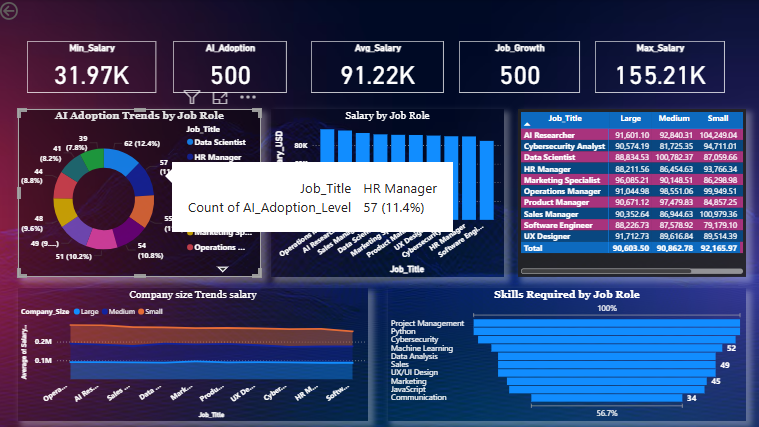

Layout of this report page (visuals, bound fields, positions):
{"tool":"powerbi","page":{"name":"Page 1","canvas":[1280,720],"ordinal":0},"visuals":[{"type":"card","title":"AI_Adoption","fields":{"Values":["CountNonNull(sales ai_job_market_insights.AI_Adoption_Level)"]},"box":[295.6,70.6,191.5,87.3],"z":0},{"type":"card","title":"Job_Growth","fields":{"Values":["CountNonNull(sales ai_job_market_insights.Job_Growth_Projection)"]},"box":[776.1,70.6,203.3,87.3],"z":1000},{"type":"card","title":"Avg_Salary","fields":{"Values":["Avg(sales ai_job_market_insights.Salary_USD)"]},"box":[527.5,70.6,223.4,87.3],"z":2000},{"type":"donutChart","title":"AI Adoption Trends by Job Role","fields":{"Category":["sales ai_job_market_insights.Job_Title"],"Y":["CountNonNull(sales ai_job_market_insights.AI_Adoption_Level)"]},"box":[35.3,184.8,408.2,282.2],"z":3000},{"type":"columnChart","title":"Salary by Job Role","fields":{"Category":["sales ai_job_market_insights.Job_Title"],"Y":["Avg(sales ai_job_market_insights.Salary_USD)"]},"box":[460.3,184.8,391.4,282.2],"z":4000},{"type":"actionButton","box":[0,0,100,40],"z":5000},{"type":"pivotTable","fields":{"Rows":["sales ai_job_market_insights.Job_Title"],"Columns":["sales ai_job_market_insights.Company_Size"],"Values":["Avg(sales ai_job_market_insights.Salary_USD)"]},"box":[875.2,184.8,383,282.2],"z":6000},{"type":"funnel","title":"Skills Required by Job Role","fields":{"Category":["sales ai_job_market_insights.Required_Skills"],"Y":["CountNonNull(sales ai_job_market_insights.Job_Title)"]},"box":[656.8,485.5,601.4,223.4],"z":7000},{"type":"stackedAreaChart","title":"Company size Trends salary","fields":{"Category":["sales ai_job_market_insights.Job_Title"],"Y":["Avg(sales ai_job_market_insights.Salary_USD)"],"Series":["sales ai_job_market_insights.Company_Size"]},"box":[35.3,485.5,587.9,223.4],"z":8000},{"type":"card","title":"Min_Salary","fields":{"Values":["Min(sales ai_job_market_insights.Salary_USD)"]},"box":[50.4,70.6,216.7,87.3],"z":9000},{"type":"card","title":"Max_Salary","fields":{"Values":["Max(sales ai_job_market_insights.Salary_USD)"]},"box":[1004.5,70.6,218.4,87.3],"z":10000}]}

Visuals, with their boxes in screenshot pixels (x1, y1, x2, y2), scaled from the page's 1280x720 canvas onto the 759x427 screenshot:
"AI_Adoption" card: 175,42,289,94
"Job_Growth" card: 460,42,581,94
"Avg_Salary" card: 313,42,445,94
"AI Adoption Trends by Job Role" donutChart: 21,110,263,277
"Salary by Job Role" columnChart: 273,110,505,277
actionButton: 0,0,59,24
pivotTable - sales ai_job_market_insights.Job_Title x sales ai_job_market_insights.Company_Size: 519,110,746,277
"Skills Required by Job Role" funnel: 389,288,746,420
"Company size Trends salary" stackedAreaChart: 21,288,370,420
"Min_Salary" card: 30,42,158,94
"Max_Salary" card: 596,42,725,94
